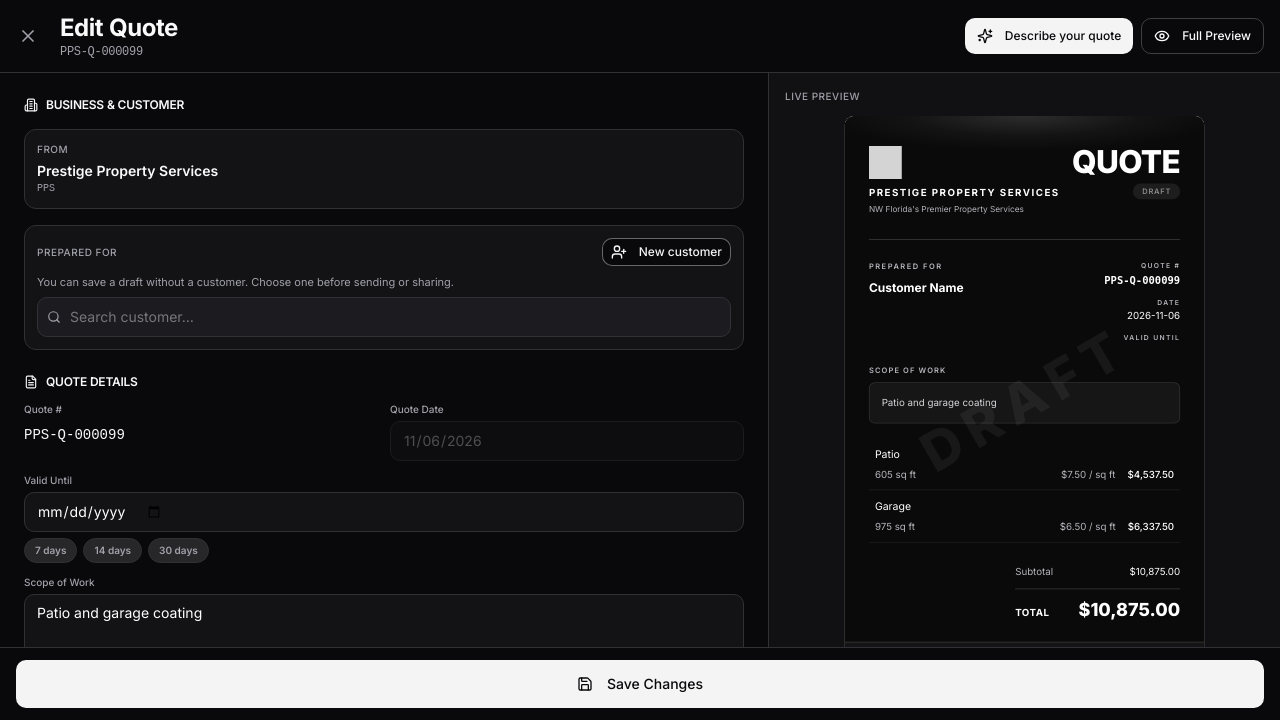
it: Unassigned draft customer selection › offers only same-workspace customers and attaches the chosen one on save
Later steps or results of the test are not shown.
Focus the field with placeholder "Search customer…" at point(384, 316), box [37,296,731,336]
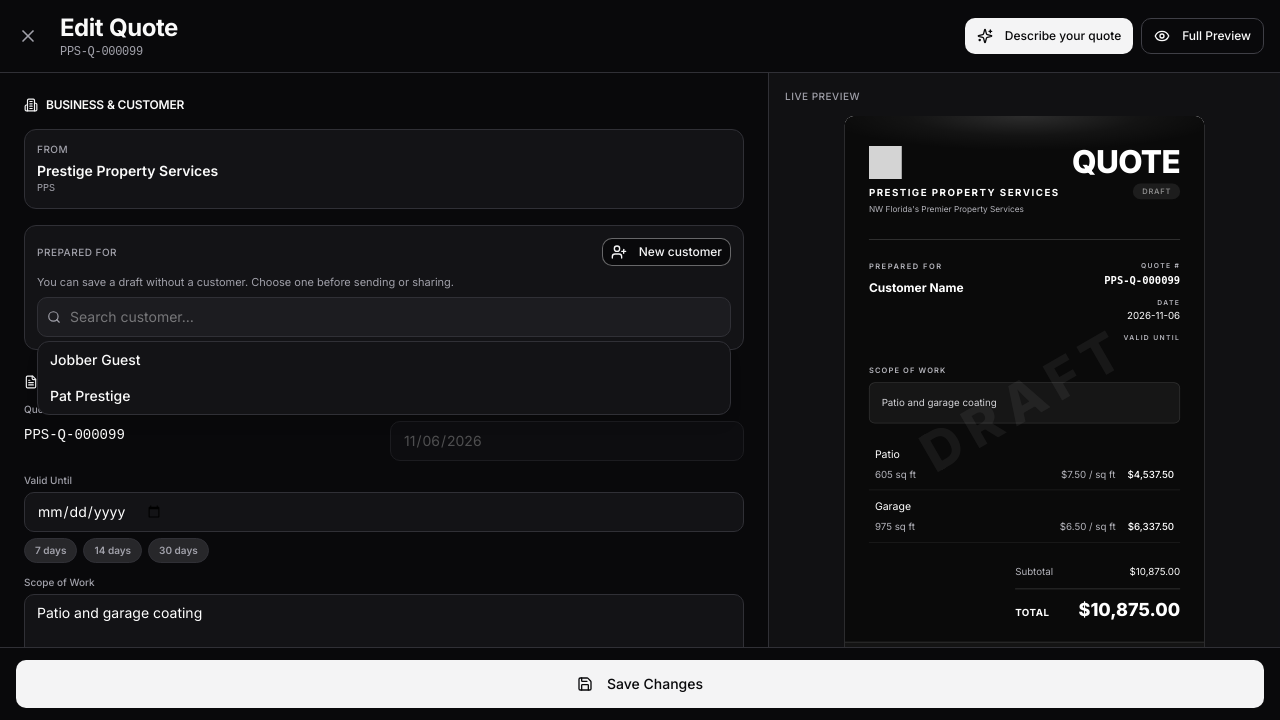
Result: the text "Pat Prestige" is shown at [50,386,130,404]
